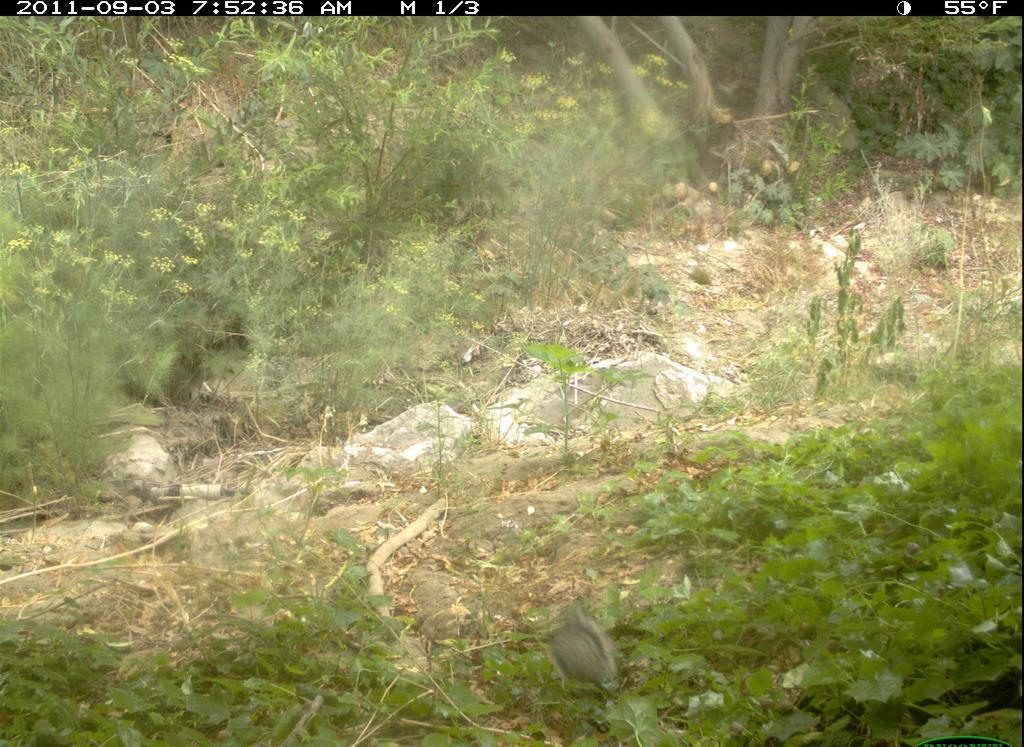squirrel: (528, 585, 633, 706)
